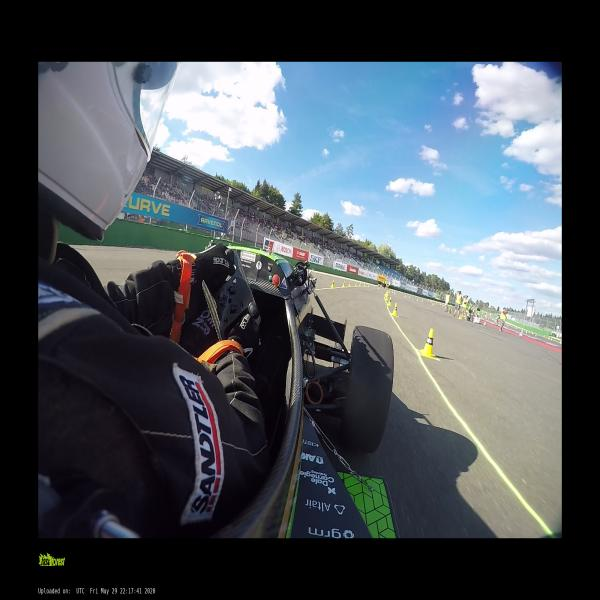yellow_cone: (419, 327, 436, 358), (392, 302, 398, 317), (331, 279, 334, 288), (342, 280, 345, 288), (348, 281, 351, 287), (386, 294, 389, 300), (389, 297, 391, 305), (354, 282, 357, 286), (359, 281, 361, 287), (404, 294, 406, 298), (364, 282, 365, 287), (409, 295, 410, 299)
